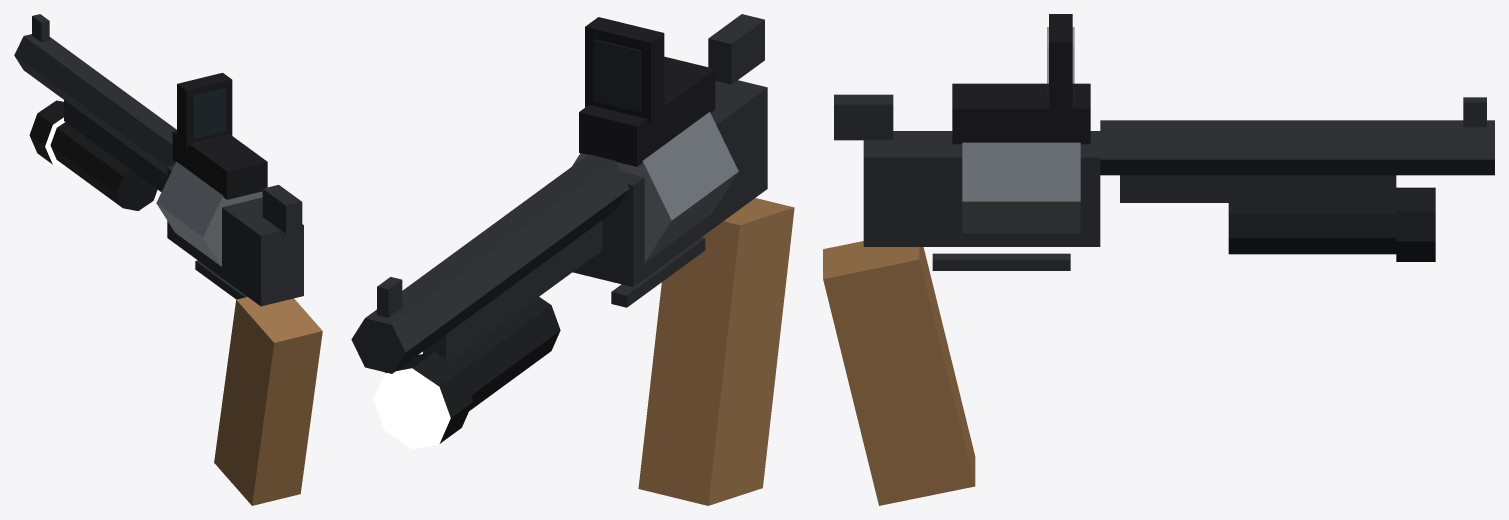
The model's file is w_heavy_pistol.glb.
3 renders of one model, left to right at view 1: azimuth 30°, elevation 25°; view 2: azimuth 150°, elevation 25°; view 3: azimuth 270°, elevation 25°, orthographic. The views are drawn at different scales.
Parts seen in each view (by area): view 1: w_heavy_pistol, w_heavy_pistol_att_scope, w_heavy_pistol_att_flashlight; view 2: w_heavy_pistol, w_heavy_pistol_att_scope, w_heavy_pistol_att_flashlight; view 3: w_heavy_pistol, w_heavy_pistol_att_flashlight, w_heavy_pistol_att_scope.
Part boxes in pixels (x1,y1,x2,y2): w_heavy_pistol: [14, 14, 322, 505]; w_heavy_pistol_att_scope: [172, 72, 267, 199]; w_heavy_pistol_att_flashlight: [29, 100, 157, 210]; w_heavy_pistol: [351, 14, 794, 505]; w_heavy_pistol_att_scope: [579, 17, 715, 166]; w_heavy_pistol_att_flashlight: [373, 297, 560, 449]; w_heavy_pistol: [823, 94, 1494, 505]; w_heavy_pistol_att_flashlight: [1228, 187, 1435, 261]; w_heavy_pistol_att_scope: [952, 14, 1090, 144].
Bounding box in the file's own units: 0.06 × 0.2589 × 0.3406.
